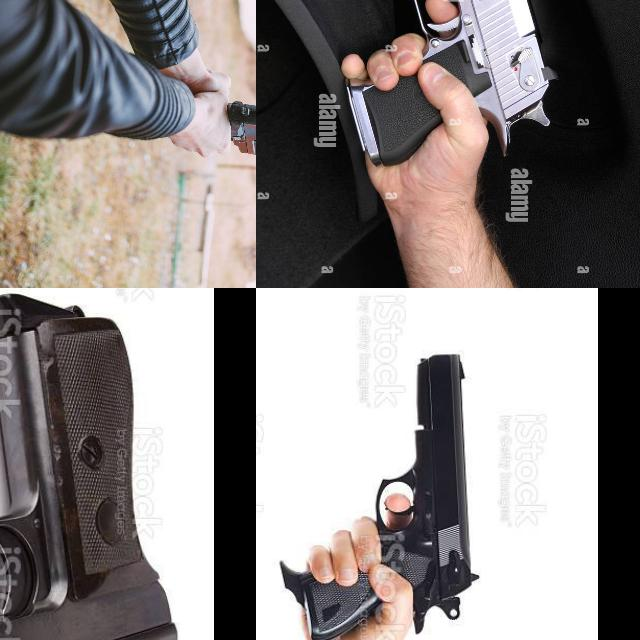handgun: (0, 288, 209, 640), (341, 0, 563, 190), (370, 349, 481, 640), (223, 96, 256, 160)
